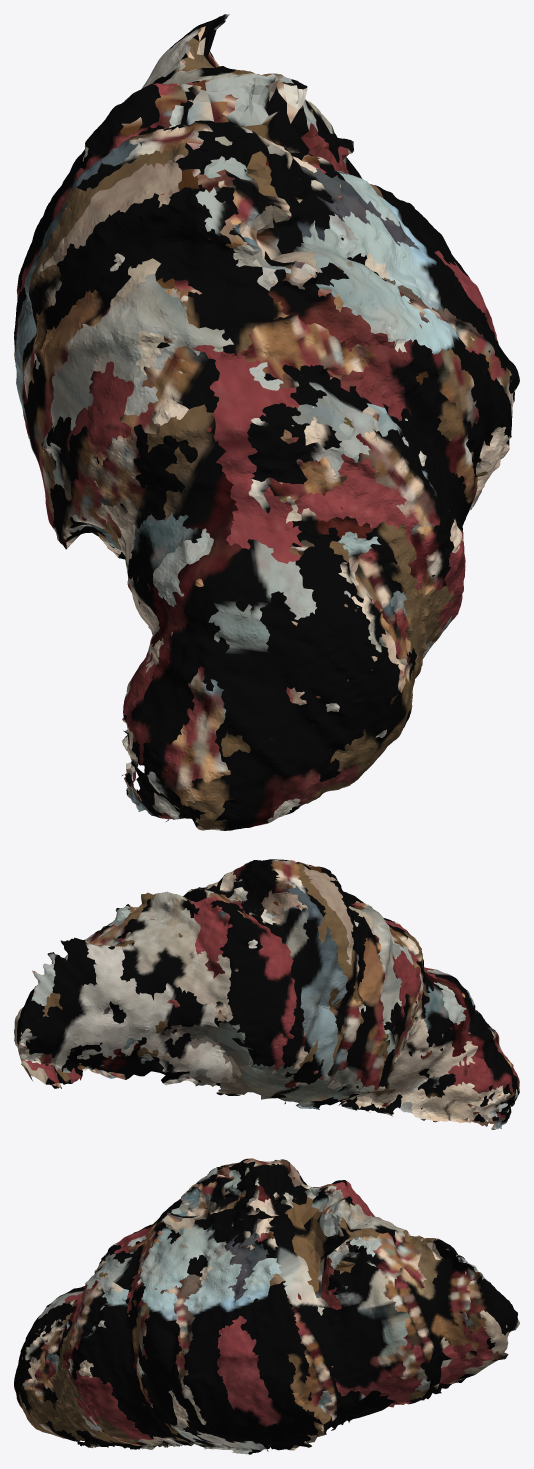
File: croissant.fbx
3 renders of one model, top to bottom at view 1: azimuth 30°, elevation 25°; view 2: azimuth 150°, elevation 25°; view 3: azimuth 270°, elevation 25°, orthographic. The views are drawn at different scales.
Visible parts, largest first — view 1: texturedMesh; view 2: texturedMesh; view 3: texturedMesh.
Part boxes in pixels (box(x1,y1,x2,y2)): texturedMesh: box(14, 14, 519, 830); texturedMesh: box(14, 859, 519, 1129); texturedMesh: box(14, 1158, 519, 1454).
Size of the model in its own units: 39.81 by 36.39 by 57.34.
